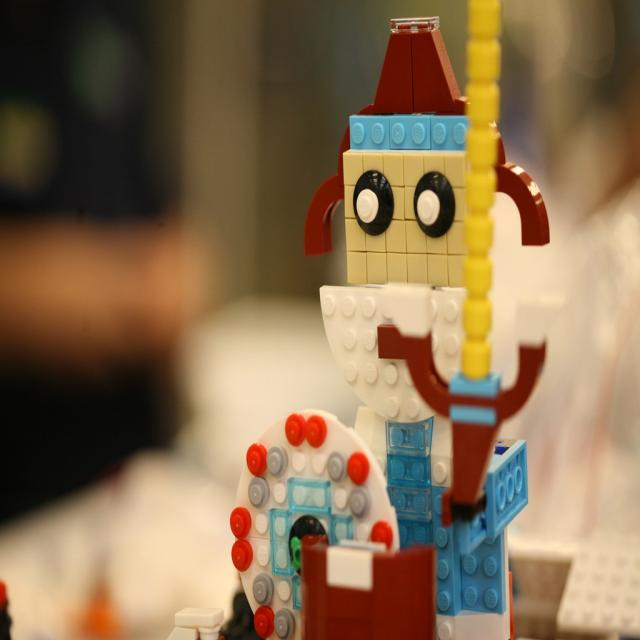Toy: (168, 0, 566, 640)
